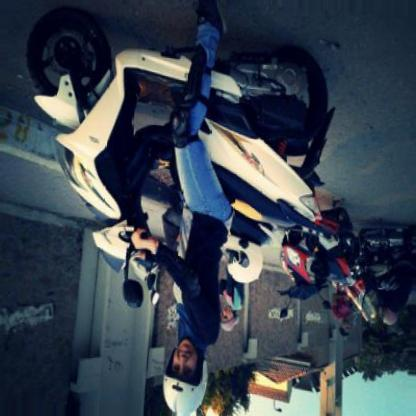with helmet: (161, 338, 207, 416)
